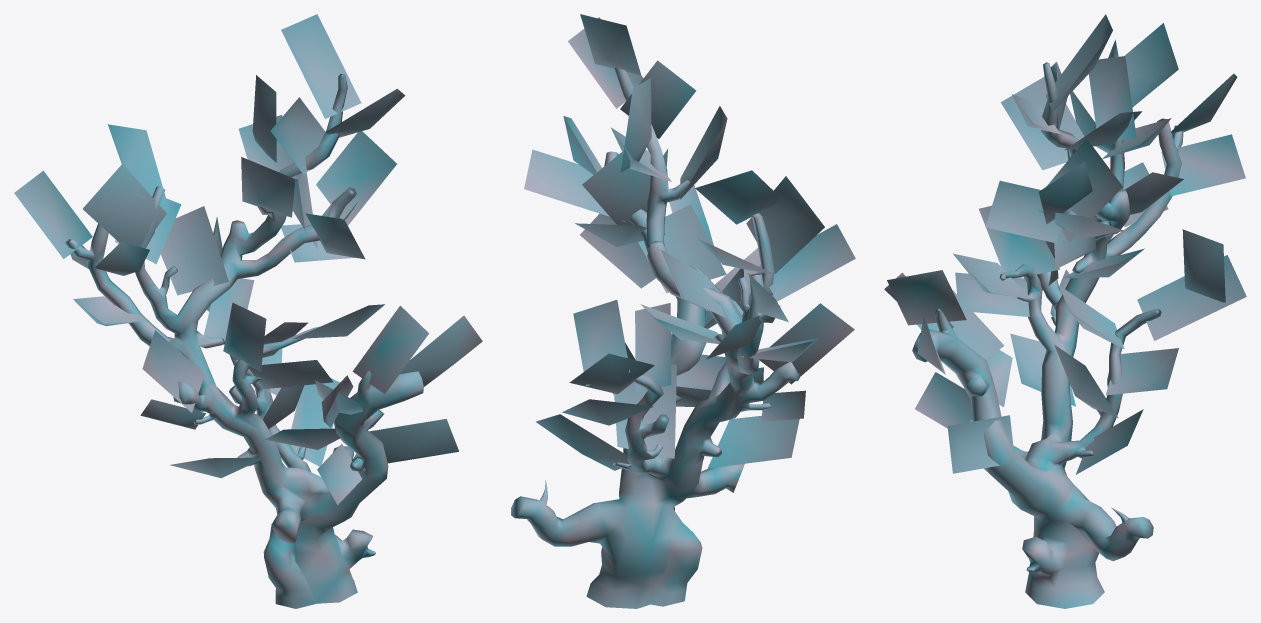
3 views of the same model, side by side, from view 1: azimuth 30°, elevation 25°; view 2: azimuth 150°, elevation 25°; view 3: azimuth 270°, elevation 25° (orthographic). The views are drawn at different scales.
Parts seen in each view (by area): view 1: G:\FFXIV-MapTools\exports\e3f1\bg\ex2\02_est_e3\fld\e3f1\bgp (×2); view 2: G:\FFXIV-MapTools\exports\e3f1\bg\ex2\02_est_e3\fld\e3f1\bgp (×2); view 3: G:\FFXIV-MapTools\exports\e3f1\bg\ex2\02_est_e3\fld\e3f1\bgp (×2).
Boxes of the visible parts, bbox=[...] form: G:\FFXIV-MapTools\exports\e3f1\bg\ex2\02_est_e3\fld\e3f1\bgp (×2): bbox=[14, 14, 482, 608]; G:\FFXIV-MapTools\exports\e3f1\bg\ex2\02_est_e3\fld\e3f1\bgp (×2): bbox=[511, 14, 855, 608]; G:\FFXIV-MapTools\exports\e3f1\bg\ex2\02_est_e3\fld\e3f1\bgp (×2): bbox=[884, 14, 1246, 608].
Size of the model in its own units: 11.76 by 19.04 by 10.95.
